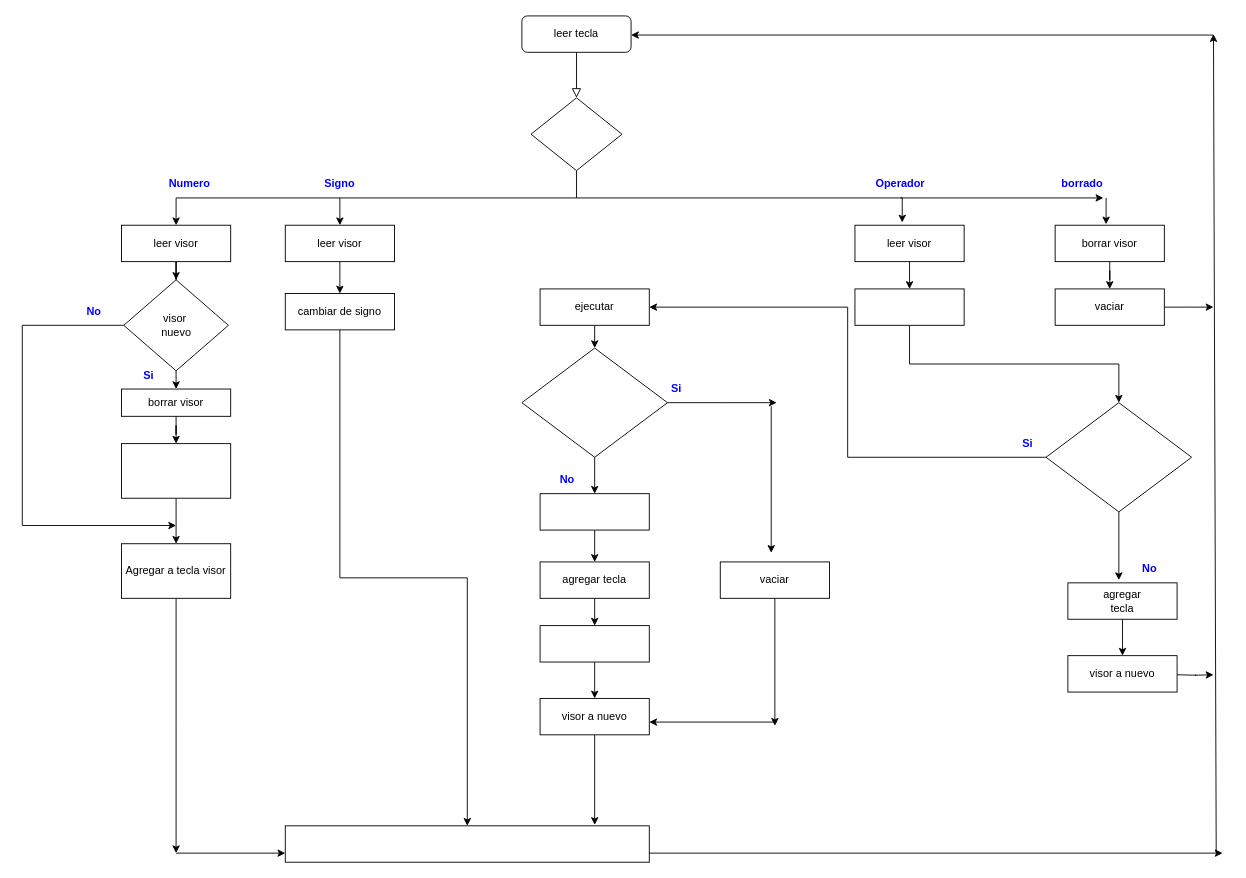
Image size: 1246x878. Some labels were removed from this diagram. The shapes that lost their labels are listed below. From the top down, each one's box as (x1, y1, x2, y2) in pixels, then its label:
(530, 97, 622, 171): ¿tIpo?
(854, 288, 964, 325): agregar
(521, 347, 667, 457): error o tecla =
(121, 443, 231, 498): visor a usado
(1045, 402, 1192, 512): es ejecutable?
(539, 493, 649, 530): Resultado
(539, 625, 649, 662): resultado a visor
(284, 825, 649, 862): Mostrar visor
